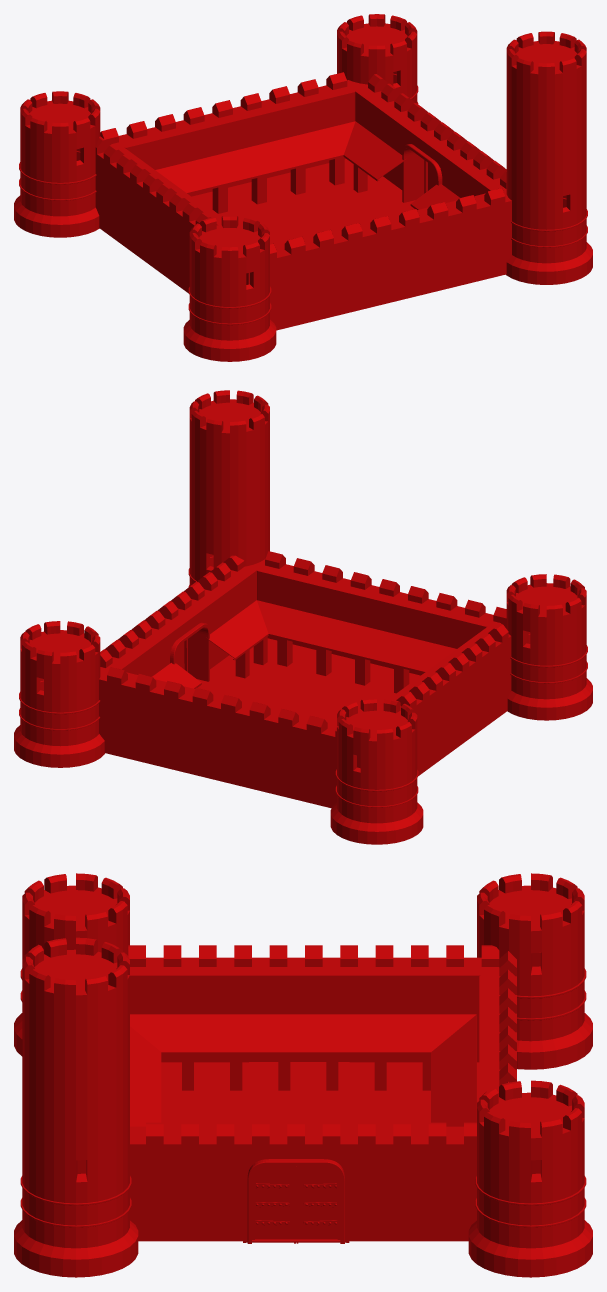
File: castle3.obj
The picture shows the model from 3 angles, top to bottom: view 1: azimuth 30°, elevation 25°; view 2: azimuth 150°, elevation 25°; view 3: azimuth 270°, elevation 25°; orthographic projection. The views are drawn at different scales.
Parts seen in each view (by area): view 1: castle; view 2: castle; view 3: castle.
Part boxes in pixels (x1=…): castle: x1=14, y1=14, x2=592, y2=361; castle: x1=14, y1=390, x2=592, y2=844; castle: x1=14, y1=873, x2=592, y2=1277.
Size of the model in its own units: 103 by 54.31 by 96.63.
